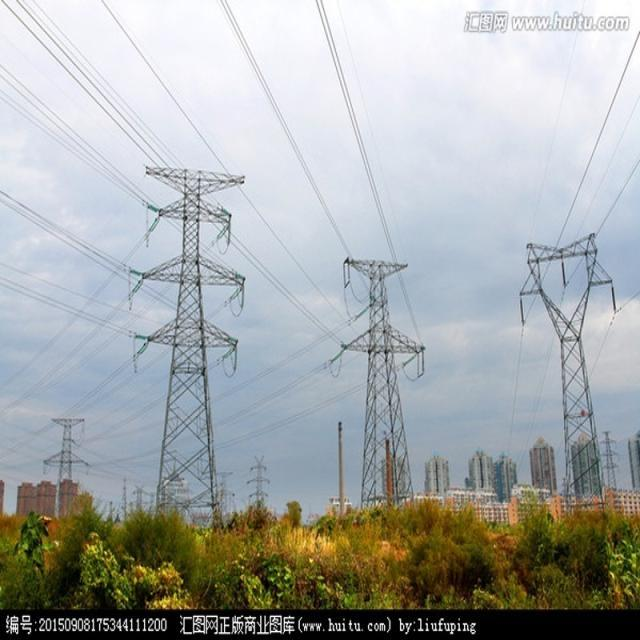non-critical vegetation: (130, 148, 240, 527), (512, 228, 618, 518), (342, 230, 428, 498)
